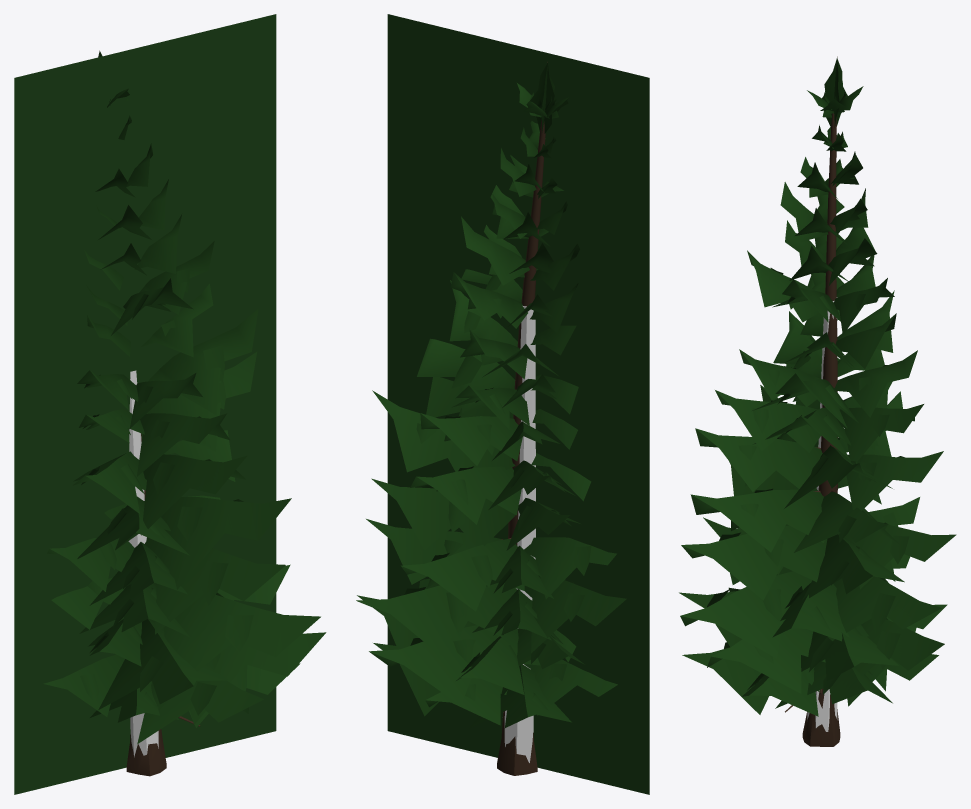
The model's file is Spruce_B.fbx.
The picture shows the model from 3 angles, left to right: view 1: azimuth 30°, elevation 25°; view 2: azimuth 150°, elevation 25°; view 3: azimuth 270°, elevation 25°; orthographic projection. The views are drawn at different scales.
Parts seen in each view (by area): view 1: Spruce_B_Billboard, Spruce_B_Foliage, COL_Spruce_B, Spruce_B_Trunk; view 2: Spruce_B_Billboard, Spruce_B_Foliage, Spruce_B_Trunk, COL_Spruce_B; view 3: Spruce_B_Foliage, Spruce_B_Trunk, COL_Spruce_B.
Part boxes in pixels (x1=…): Spruce_B_Billboard: x1=14, y1=14, x2=276, y2=794; Spruce_B_Foliage: x1=43, y1=51, x2=326, y2=743; COL_Spruce_B: x1=128, y1=370, x2=158, y2=757; Spruce_B_Trunk: x1=99, y1=50, x2=200, y2=776; Spruce_B_Billboard: x1=387, y1=14, x2=649, y2=794; Spruce_B_Foliage: x1=356, y1=63, x2=626, y2=728; Spruce_B_Trunk: x1=497, y1=62, x2=547, y2=775; COL_Spruce_B: x1=504, y1=306, x2=535, y2=762; Spruce_B_Foliage: x1=679, y1=58, x2=956, y2=716; Spruce_B_Trunk: x1=785, y1=56, x2=840, y2=746; COL_Spruce_B: x1=807, y1=297, x2=837, y2=731.
Size of what is drawn, in the model's own units: 4.02 by 10.06 by 3.81.
